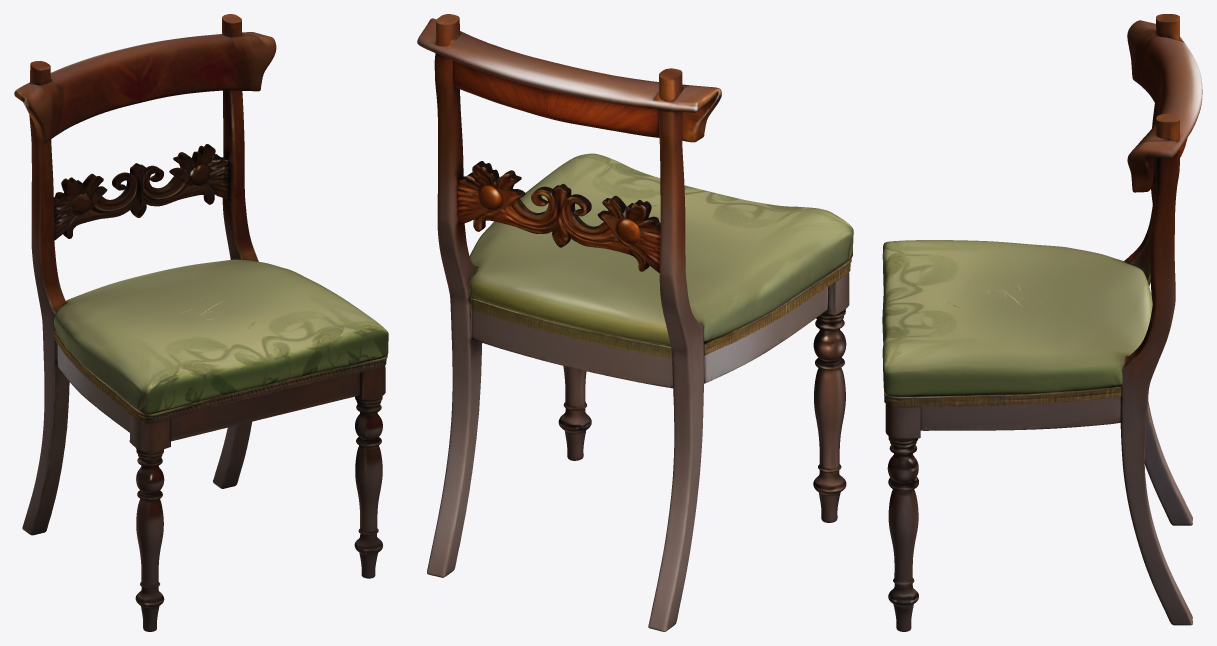
The picture shows the model from 3 angles, left to right: view 1: azimuth 30°, elevation 25°; view 2: azimuth 150°, elevation 25°; view 3: azimuth 270°, elevation 25°; orthographic projection. The views are drawn at different scales.
Visible parts, largest first — view 1: root.1, root.2, root.0, root.3, root.4, root.6, root.5, root.8, root.7; view 2: root.1, root.3, root.2, root.4, root.0, root.6, root.8, root.7, root.5; view 3: root.1, root.4, root.0, root.2, root.5, root.3.
Boxes of the visible parts, x1,y1,x2,y2 form: root.1: (53,259,388,413); root.2: (14,32,276,143); root.0: (54,330,387,441); root.3: (22,61,69,535); root.4: (213,14,258,488); root.6: (129,414,170,631); root.5: (354,365,385,578); root.8: (53,163,141,240); root.7: (136,144,228,217); root.1: (469,153,853,345); root.3: (648,68,703,631); root.2: (417,18,721,142); root.4: (427,14,482,577); root.0: (472,258,851,388); root.6: (813,273,849,522); root.8: (557,184,660,272); root.7: (457,161,563,247); root.5: (558,366,591,460); root.1: (882,240,1152,395); root.4: (1120,114,1192,625); root.0: (884,385,1121,430); root.2: (1127,20,1202,192); root.5: (885,403,920,631); root.3: (1124,14,1192,525).
Bounding box in the file's own units: 0.4691 × 0.848 × 0.4875.
9 materials, 9 textured.
